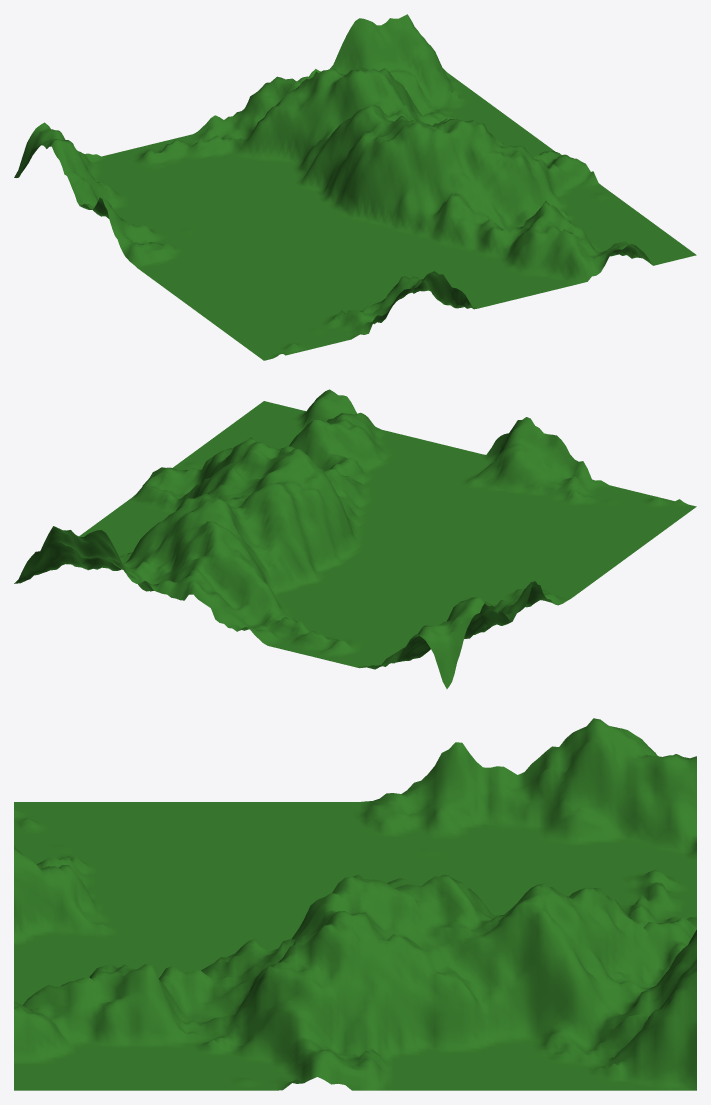
File: BlenderMountainTerrain.fbx
3 renders of one model, top to bottom at view 1: azimuth 30°, elevation 25°; view 2: azimuth 150°, elevation 25°; view 3: azimuth 270°, elevation 25°, orthographic. The views are drawn at different scales.
Visible parts, largest first — view 1: Grid; view 2: Grid; view 3: Grid.
Boxes of the visible parts, x1,y1,x2,y2 form: Grid: [14, 14, 696, 360]; Grid: [14, 389, 696, 688]; Grid: [14, 718, 696, 1090].
Size of the model in its own units: 200 by 35.35 by 200.
